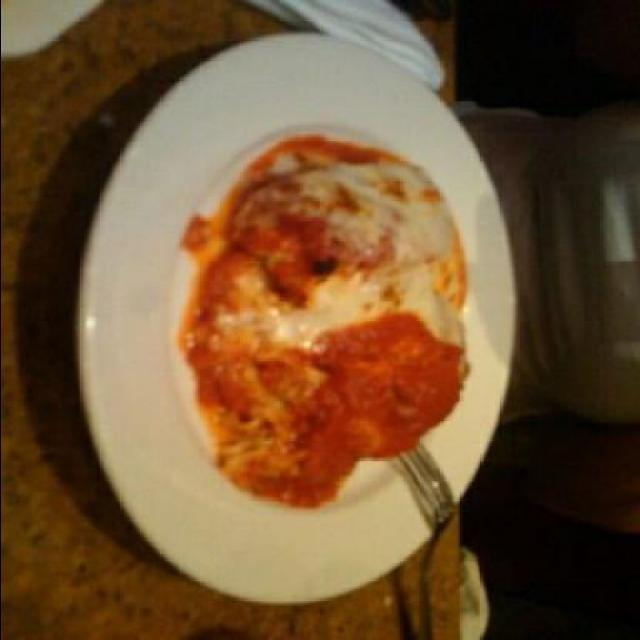Lasagna: (197, 178, 460, 466)
